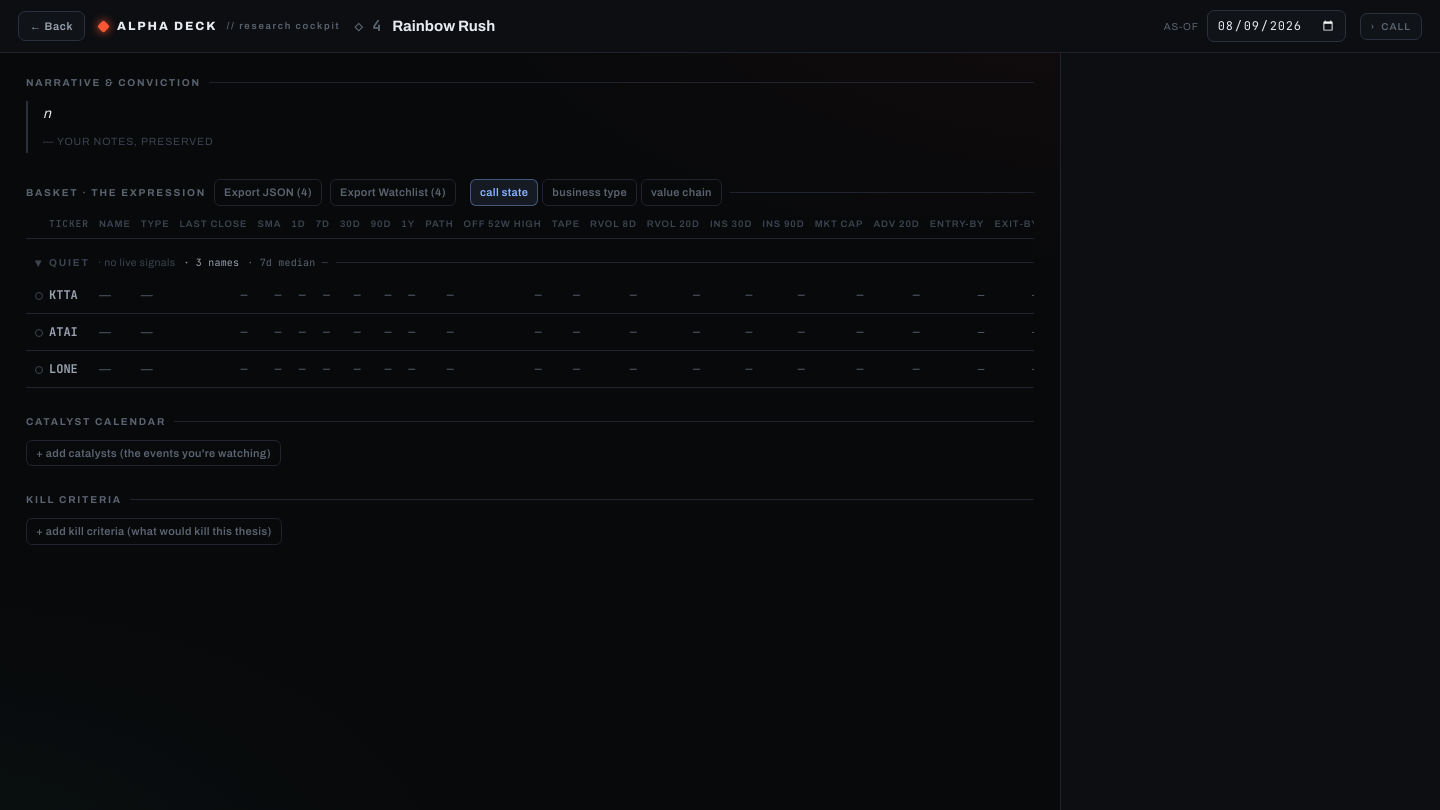
Test: Cockpit — the value-chain (segment) lens › adds a 'value chain' toggle; groups by link with a multi-segment name under EACH
Expected: the button "call state" is shown, x1=470 y1=179 x2=538 y2=206
Expected: the button "business type" is shown, x1=542 y1=179 x2=637 y2=206
Click the button "value chain" at x=681, y=192, box x1=641 y1=179 x2=722 y2=206
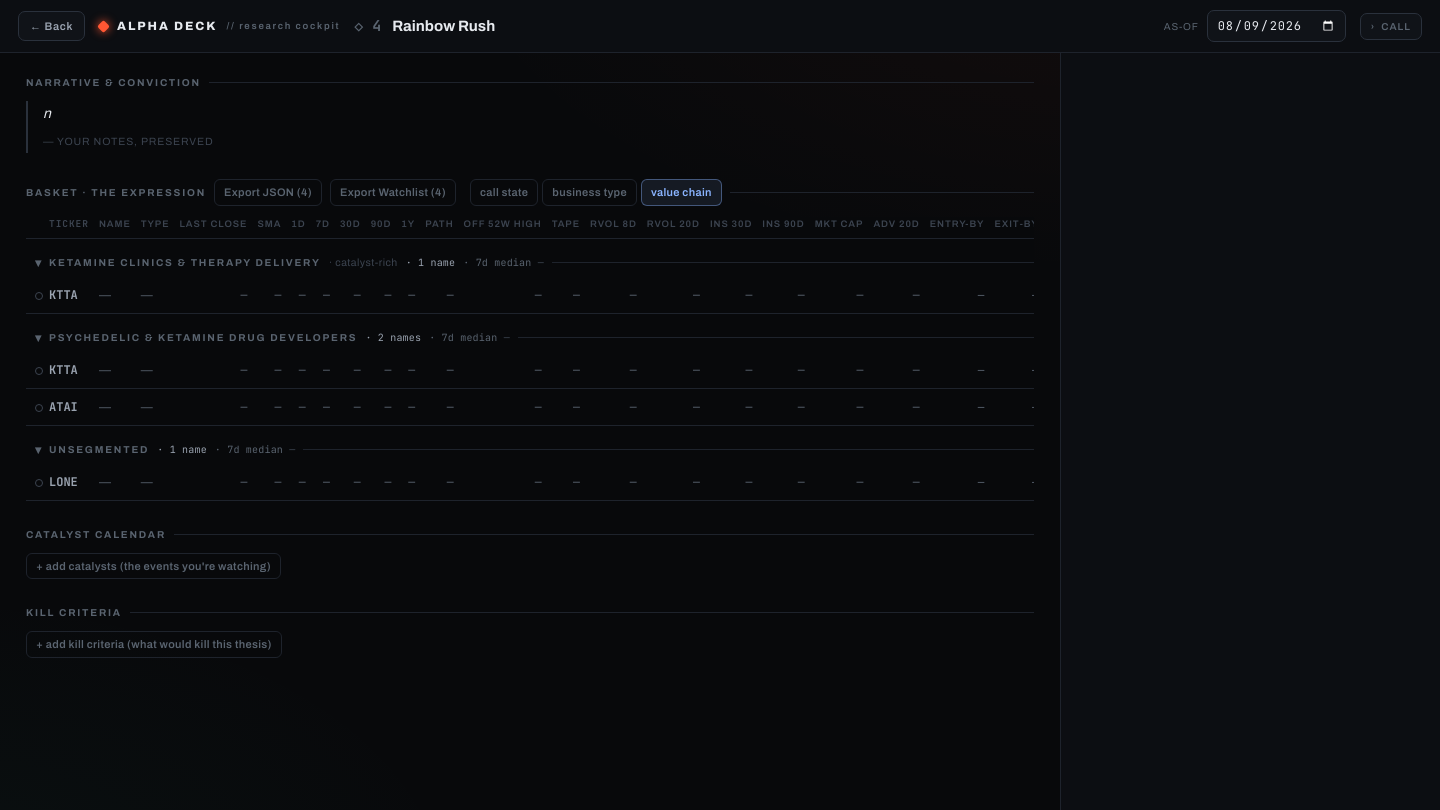
Expected: the text "LONE" is shown, x1=49 y1=464 x2=99 y2=500
Result: the text "KTTA" is shown 2 times at x1=49 y1=277 x2=99 y2=313; x1=49 y1=352 x2=99 y2=388
Result: the text "· catalyst-rich" is shown at x1=329 y1=255 x2=398 y2=271
